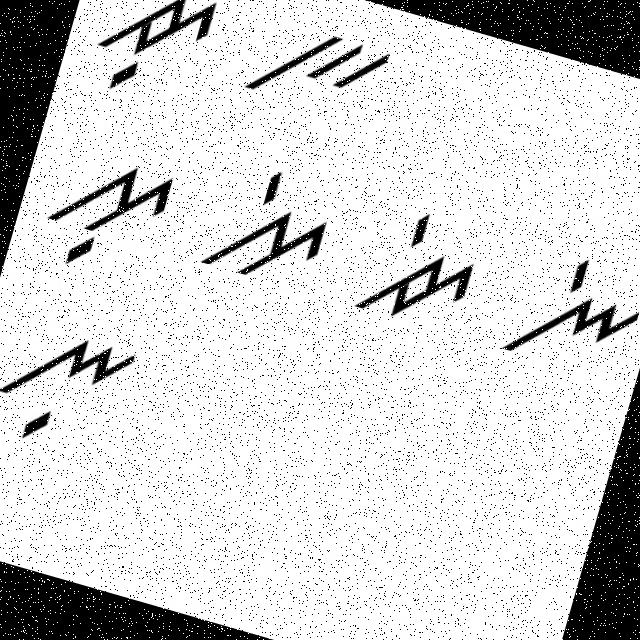je: (346, 188, 495, 342)
ju: (70, 0, 231, 115)
nye: (494, 233, 639, 394)
nyu: (0, 306, 149, 468)
se: (183, 152, 342, 312)
su: (32, 135, 190, 294)
